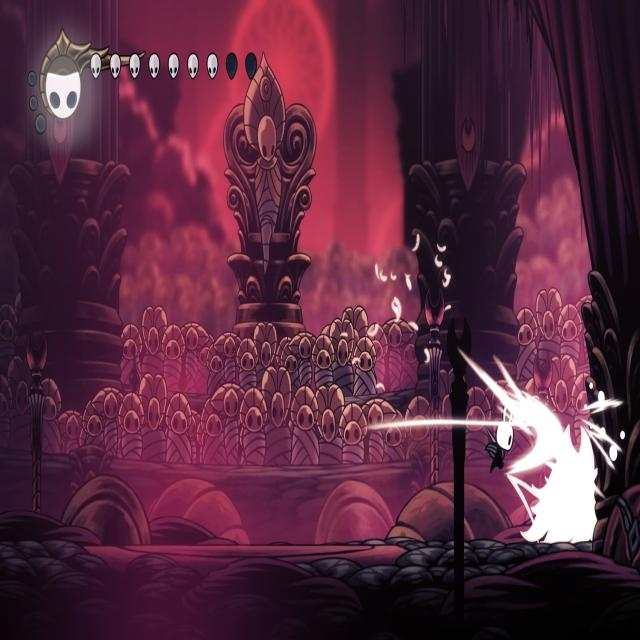Dive Dash: (508, 421, 600, 542)
Player: (484, 402, 517, 476)
